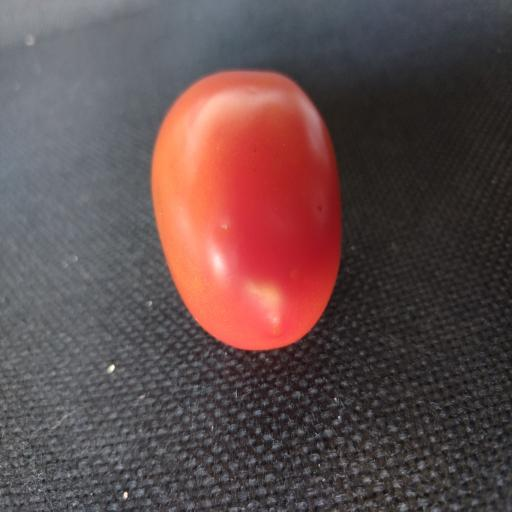ripe: (152, 71, 341, 349)
